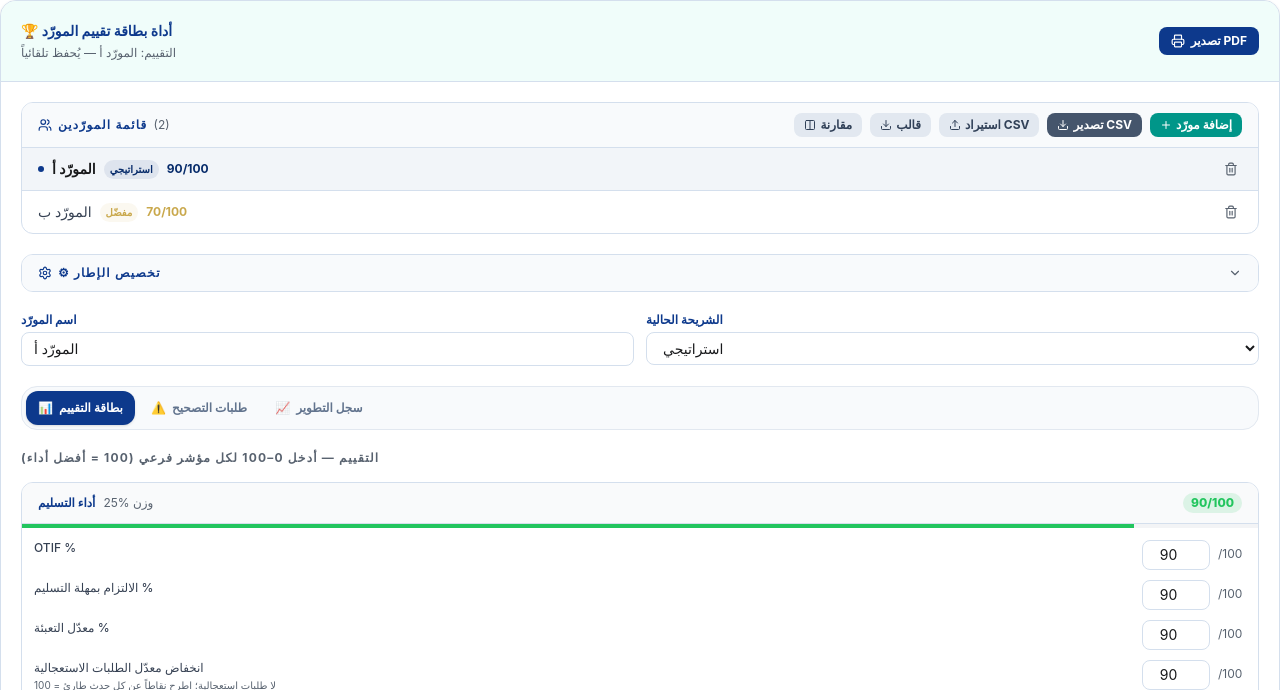
Test: Compare view — Arabic column headers › shows "البُعد" as the first column header instead of "Dimension"
Click the button "مقارنة". click: [828, 125]
box: [794, 113, 862, 137]
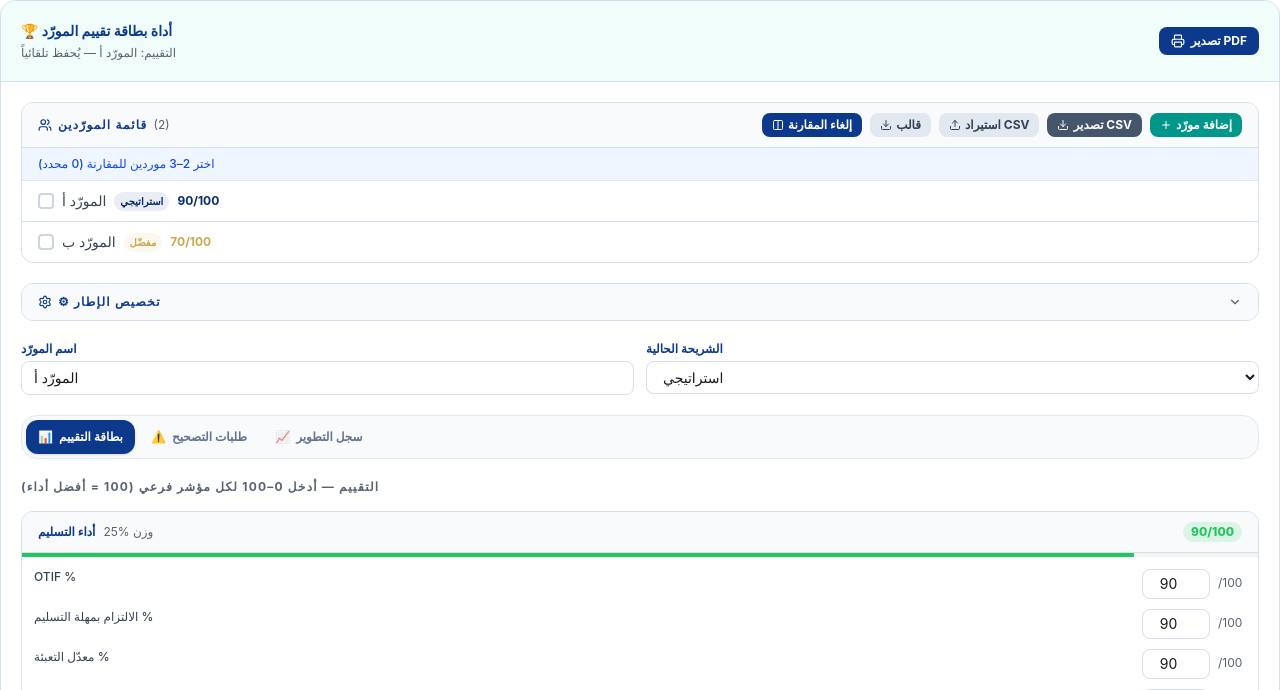
Click the text "المورّد أ". click: [84, 201]
box: [62, 191, 106, 211]
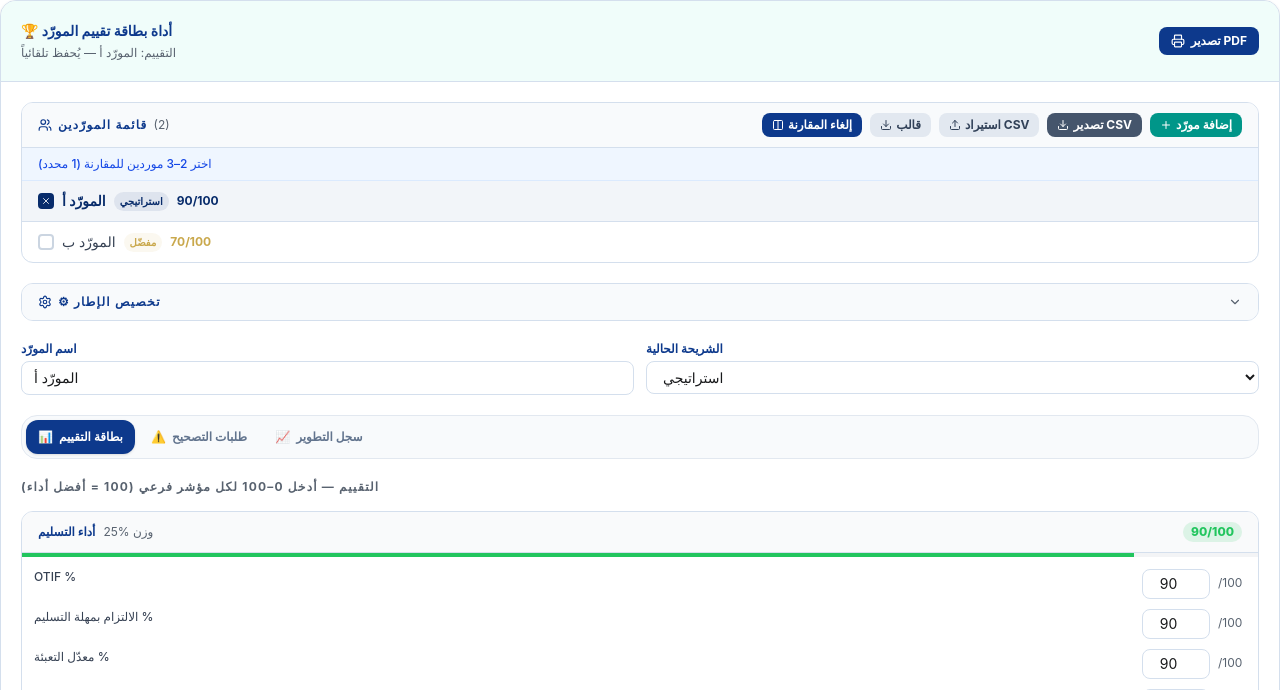
Click the text "المورّد ب". click: [89, 242]
box: [62, 232, 116, 252]
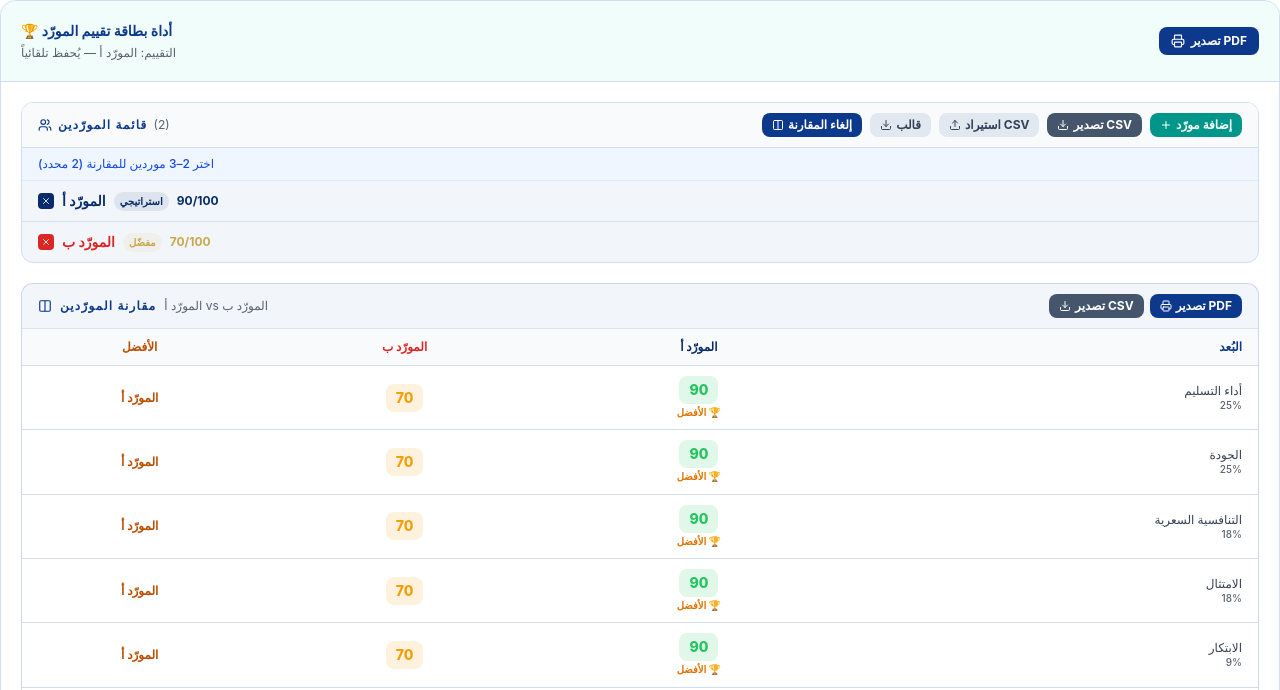
Result: the column heading "البُعد" is shown at [846, 329, 1258, 366]
